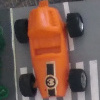carro: (17, 1, 87, 95)
